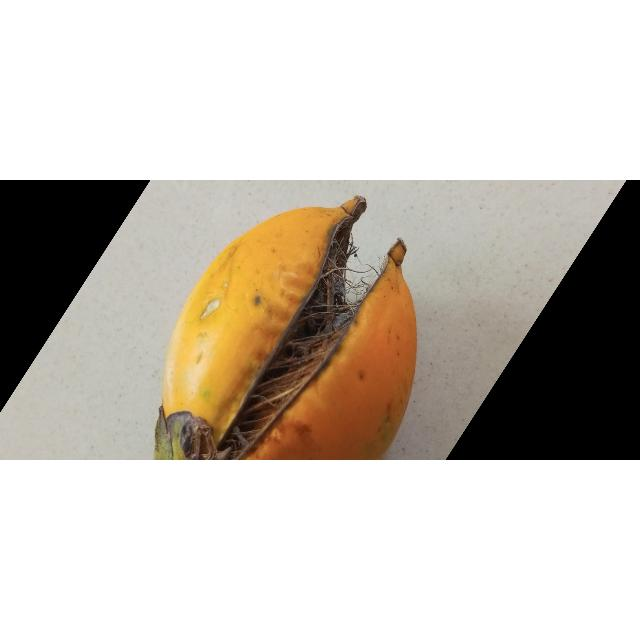damaged: (153, 196, 415, 461)
